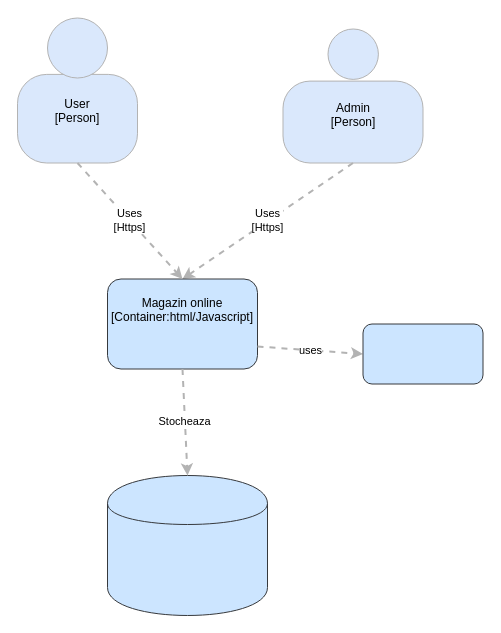
Some shapes in this 501 by 633 pixel diagram are drawn without their labels. The centre of each missing label's shape, as x and y in pixels:
Database [Container: MySq] Stocheaza datele despre useri si produse: the point at 187,545
Sistem de mail [Softaware System]: the point at 422,353
